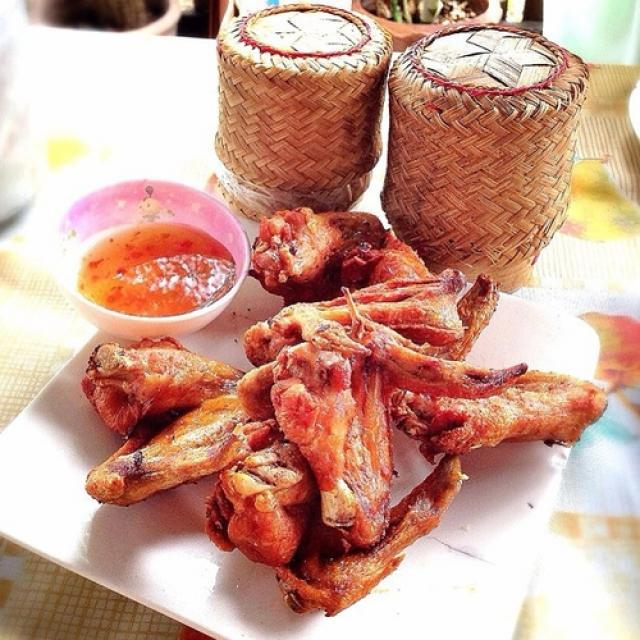Deep fried chicken wing: (131, 220, 574, 598)
